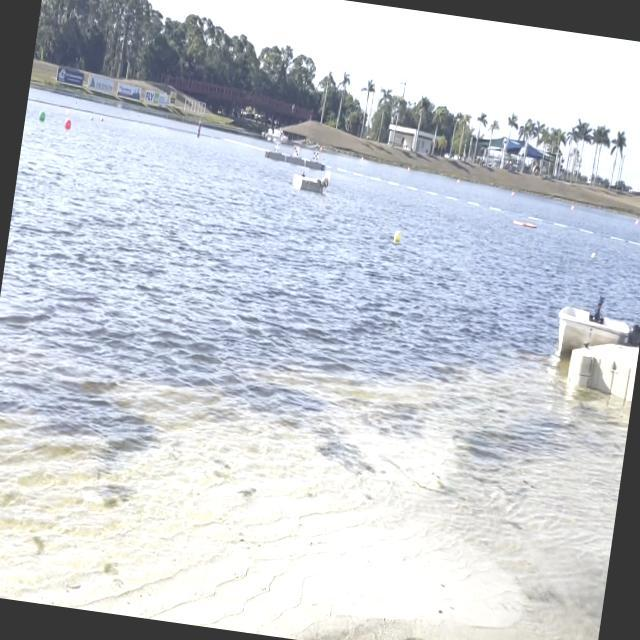buoy: (38, 110, 46, 122), (64, 118, 72, 130)
